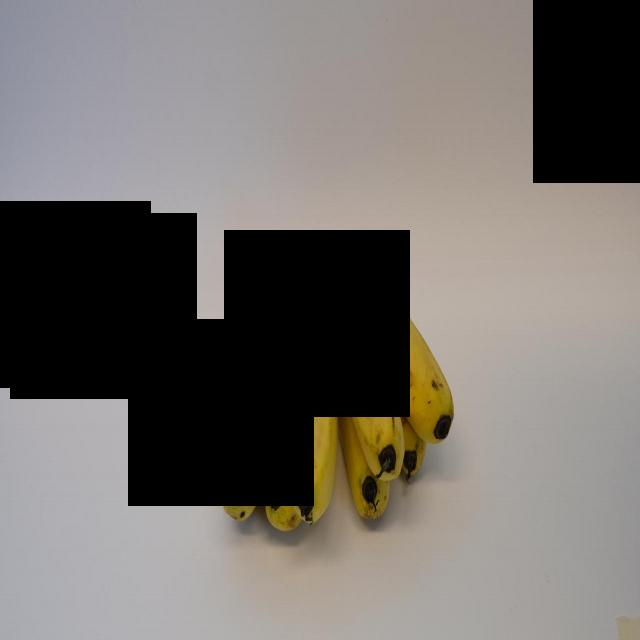banana: (343, 250, 461, 443), (323, 282, 408, 478), (213, 287, 297, 485), (296, 304, 342, 526)
